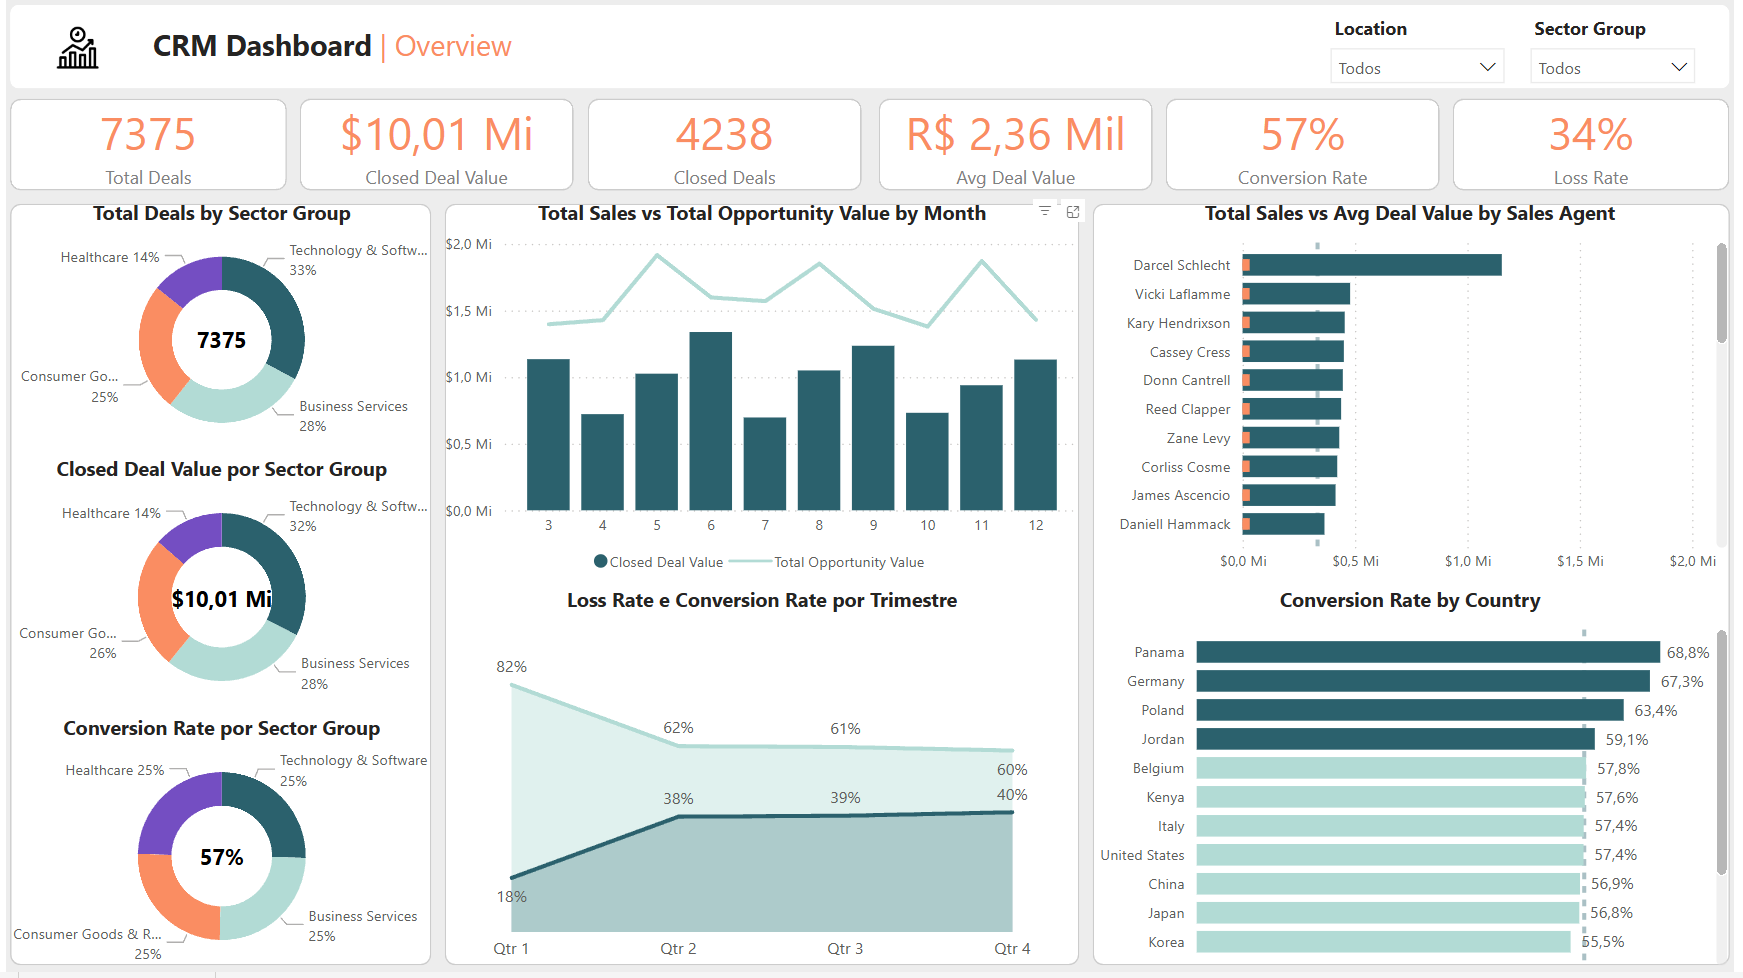

This screenshot's page, from the dashboard's own definition file:
{"tool":"powerbi","page":{"name":"Overview","canvas":[1280,720],"ordinal":3},"visuals":[{"type":"shape","title":"CRM Dashboard ","box":[0,1.8,1279.7,66.1],"z":0},{"type":"textbox","box":[93.3,13.6,297.1,40.8],"z":1000},{"type":"slicer","fields":{"Values":["accounts.office_location"]},"box":[970.9,6.3,148.5,55.2],"z":2000},{"type":"slicer","fields":{"Values":["accounts.Sector Group"]},"box":[1119.4,6.3,142.2,55.2],"z":3000},{"type":"image","box":[12.6,14.6,80.7,40.9],"z":4000},{"type":"shape","box":[0,67.9,213,77.9],"z":5000},{"type":"shape","box":[212.8,67.9,212.8,77.9],"z":6000},{"type":"shape","box":[425.7,67.9,212.8,77.9],"z":7000},{"type":"shape","box":[641.2,67.9,212.8,77.9],"z":8000},{"type":"shape","box":[854,67.9,212.8,77.9],"z":9000},{"type":"shape","box":[1066.9,67.9,212.8,77.9],"z":10000},{"type":"shape","box":[0,145.8,320,574.2],"z":11000},{"type":"shape","box":[319.7,145.8,480,574.2],"z":12000},{"type":"shape","box":[799.7,145.8,480,574.2],"z":13000},{"type":"card","fields":{"Values":["sales_pipeline.opportunity_id"]},"box":[0,67.9,212.8,77.9],"z":14000},{"type":"card","fields":{"Values":["sales_pipeline.Total Sales"]},"box":[212.8,67.9,212.8,77.9],"z":15000},{"type":"card","fields":{"Values":["sales_pipeline.Won Deals"]},"box":[425.7,67.9,212.8,77.9],"z":16000},{"type":"card","fields":{"Values":["sales_pipeline.Avg Deal Value"]},"box":[641.2,67.9,212.8,77.9],"z":17000},{"type":"card","fields":{"Values":["sales_pipeline.Conversion Rate"]},"box":[854,67.9,212.8,77.9],"z":18000},{"type":"card","fields":{"Values":["sales_pipeline.Lost Rate"]},"box":[1066.9,67.9,212.8,77.9],"z":19000},{"type":"donutChart","title":"Total Deals by Sector Group","fields":{"Y":["sales_pipeline.opportunity_id"],"Category":["accounts.Sector Group"]},"box":[0,146.5,319.7,190],"z":20000},{"type":"donutChart","fields":{"Category":["accounts.Sector Group"],"Y":["sales_pipeline.Total Sales"]},"box":[0,336.5,319.7,192],"z":21000},{"type":"donutChart","fields":{"Category":["accounts.Sector Group"],"Y":["sales_pipeline.Conversion Rate"]},"box":[0,528.5,319.7,192],"z":22000},{"type":"lineStackedColumnComboChart","title":"Total Sales vs Total Opportunity Value by Month","fields":{"Y":["sales_pipeline.Total Sales"],"Y2":["sales_pipeline.Total Expected Value"],"Category":["sales_pipeline.close_month"]},"box":[319.7,146.5,480,287],"z":23000},{"type":"card","fields":{"Values":["sales_pipeline.opportunity_id"]},"box":[53.4,205.9,212.8,95],"z":24000},{"type":"areaChart","fields":{"Y":["sales_pipeline.Lost Rate","sales_pipeline.Conversion Rate"],"Category":["sales_pipeline.close_date.Variation.Hierarquia de datas.Trimestre"]},"box":[319.7,433.5,480,287],"z":25000},{"type":"clusteredBarChart","title":"Total Sales vs Avg Deal Value by Sales Agent","fields":{"Y":["sales_pipeline.Total Sales"],"Category":["sales_pipeline.sales_agent"]},"box":[799.7,146.5,480,287],"z":26000},{"type":"clusteredBarChart","title":"Conversion Rate by Country","fields":{"Category":["accounts.office_location"],"Y":["sales_pipeline.Conversion Rate"]},"box":[799.7,433.5,480,287],"z":27000},{"type":"card","fields":{"Values":["sales_pipeline.Total Sales"]},"box":[53.4,397.9,212.8,95],"z":28000},{"type":"card","fields":{"Values":["sales_pipeline.Conversion Rate"]},"box":[53.4,588.9,212.8,95],"z":29000}]}

Visuals, with their boxes in screenshot pixels (x1, y1, x2, y2), scaled from the page's 1280x720 canvas onto the 1743x978 screenshot:
"CRM Dashboard " shape: BBox(0, 2, 1742, 92)
textbox: BBox(127, 18, 532, 74)
slicer - accounts.office_location: BBox(1322, 9, 1524, 84)
slicer - accounts.Sector Group: BBox(1524, 9, 1718, 84)
image: BBox(17, 20, 127, 75)
shape: BBox(0, 92, 290, 198)
shape: BBox(290, 92, 580, 198)
shape: BBox(580, 92, 869, 198)
shape: BBox(873, 92, 1163, 198)
shape: BBox(1163, 92, 1453, 198)
shape: BBox(1453, 92, 1742, 198)
shape: BBox(0, 198, 436, 977)
shape: BBox(435, 198, 1089, 977)
shape: BBox(1089, 198, 1742, 977)
card - sales_pipeline.opportunity_id: BBox(0, 92, 290, 198)
card - sales_pipeline.Total Sales: BBox(290, 92, 580, 198)
card - sales_pipeline.Won Deals: BBox(580, 92, 869, 198)
card - sales_pipeline.Avg Deal Value: BBox(873, 92, 1163, 198)
card - sales_pipeline.Conversion Rate: BBox(1163, 92, 1453, 198)
card - sales_pipeline.Lost Rate: BBox(1453, 92, 1742, 198)
"Total Deals by Sector Group" donutChart: BBox(0, 199, 435, 457)
donutChart - accounts.Sector Group x sales_pipeline.Total Sales: BBox(0, 457, 435, 718)
donutChart - accounts.Sector Group x sales_pipeline.Conversion Rate: BBox(0, 718, 435, 977)
"Total Sales vs Total Opportunity Value by Month" lineStackedColumnComboChart: BBox(435, 199, 1089, 589)
card - sales_pipeline.opportunity_id: BBox(73, 280, 362, 409)
areaChart - sales_pipeline.Lost Rate x sales_pipeline.Conversion Rate: BBox(435, 589, 1089, 977)
"Total Sales vs Avg Deal Value by Sales Agent" clusteredBarChart: BBox(1089, 199, 1742, 589)
"Conversion Rate by Country" clusteredBarChart: BBox(1089, 589, 1742, 977)
card - sales_pipeline.Total Sales: BBox(73, 540, 362, 670)
card - sales_pipeline.Conversion Rate: BBox(73, 800, 362, 929)
